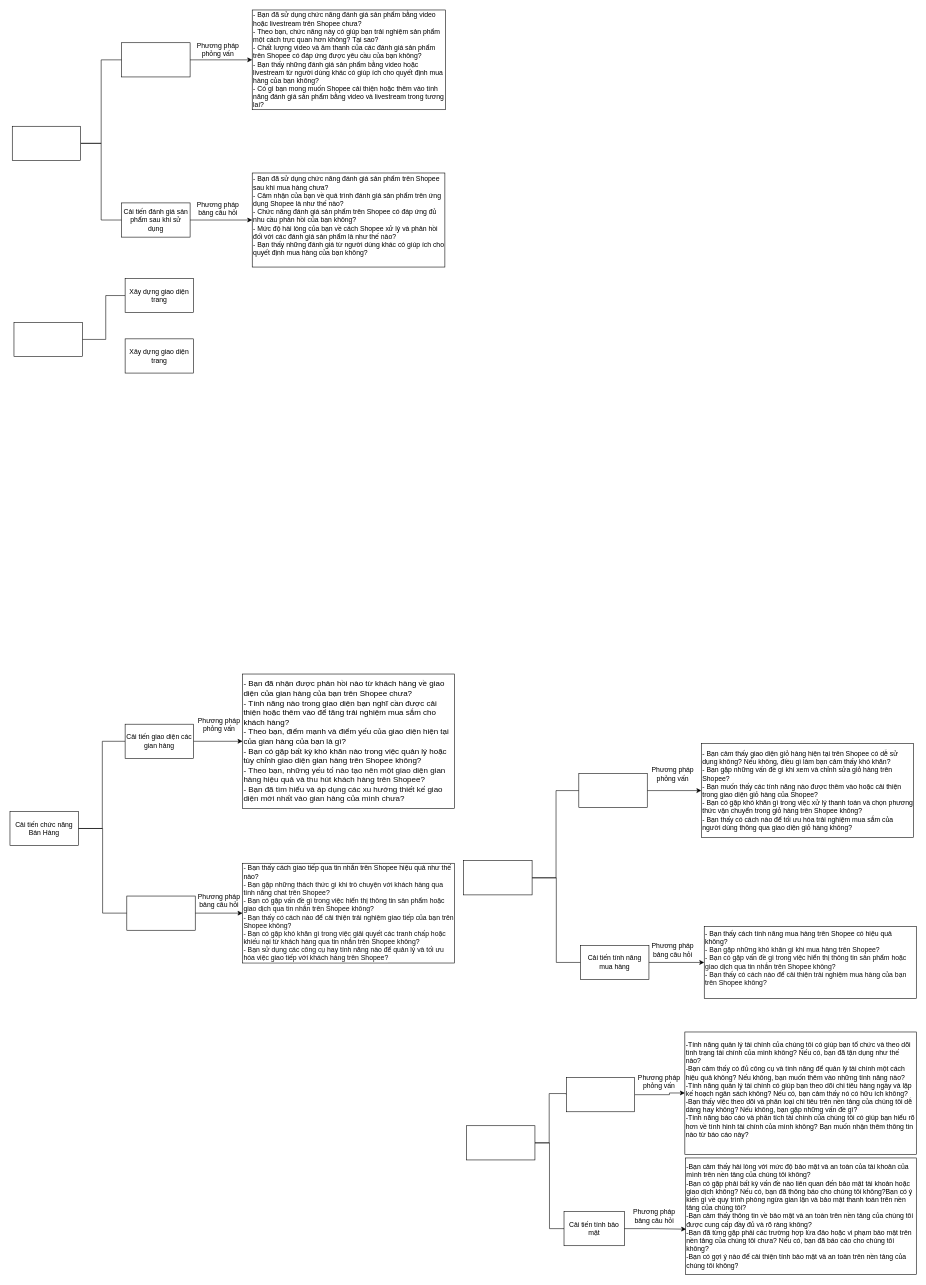
Image size: 926x1285. Some labels were removed from this diagram. Each missing label, with the centre of its shape:
"Cải tiến chất lượng đánh giá sản phẩm" belongs at point (46, 143).
"Cải tiến chức năng Mua Hàng" belongs at point (497, 877).
"cải tiến chức năng quản lí tài chính" belongs at point (600, 1094).
"Cải tiến chức năng Ví điện tử" belongs at point (500, 1142).
"Cải tiến giao diện giỏ hàng" belongs at point (612, 790).
"Cải tiến tính năng Chat với người sử dụng" belongs at point (160, 912).
"Cải tiến đánh giá sản phẩm qua Video" belongs at point (155, 59).
"Xây dựng Diễn đàn người dùng" belongs at point (47, 339).
